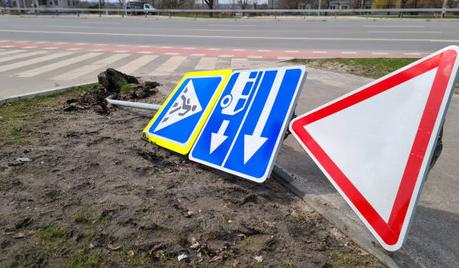road_sign: (291, 47, 458, 250), (190, 68, 305, 182), (140, 72, 230, 153)
